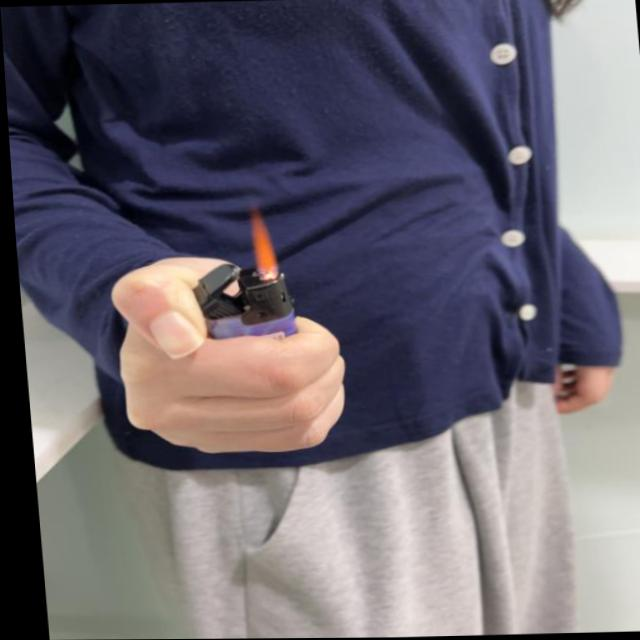Fire: (240, 201, 277, 280)
